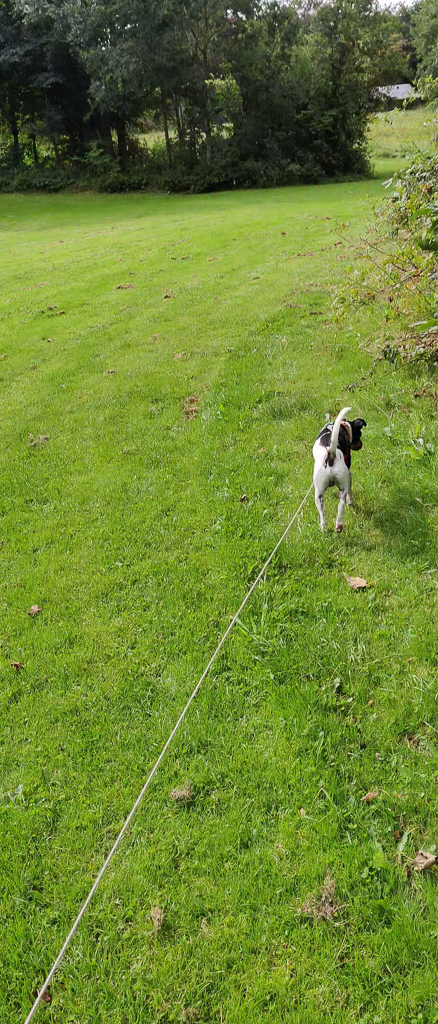Dog: (302, 400, 373, 548)
